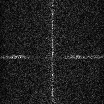wifi: (1, 55, 104, 59)
